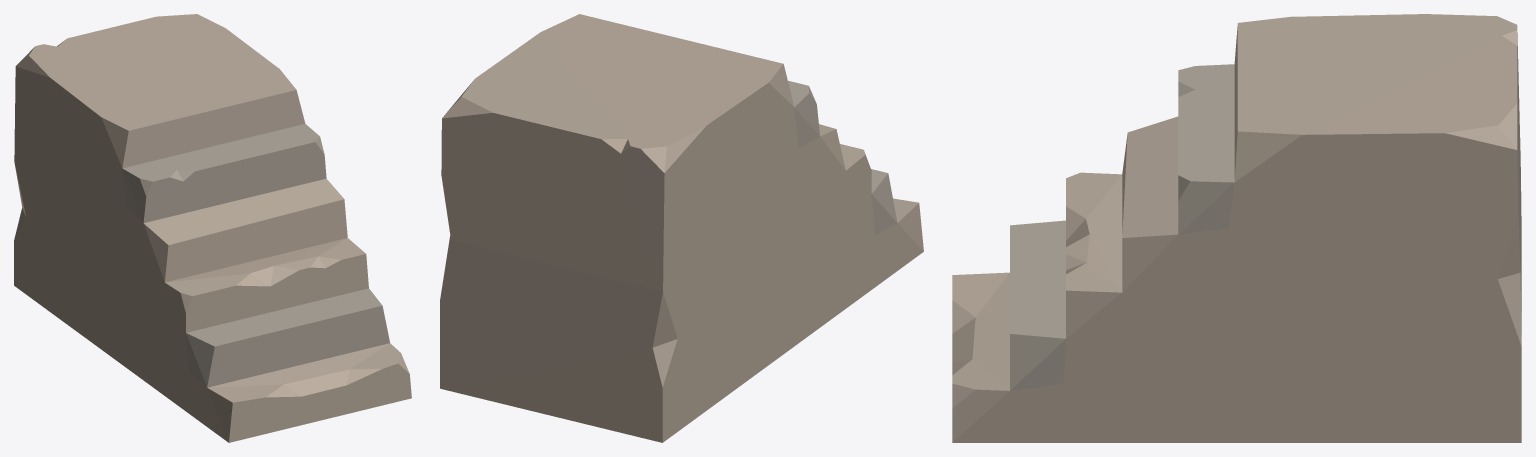
The model's file is SM_Bld_Village_Stairs_02.glb.
The picture shows the model from 3 angles, left to right: view 1: azimuth 30°, elevation 25°; view 2: azimuth 150°, elevation 25°; view 3: azimuth 270°, elevation 25°; orthographic projection. The views are drawn at different scales.
Parts seen in each view (by area): view 1: SM_Bld_Village_Stairs_02; view 2: SM_Bld_Village_Stairs_02; view 3: SM_Bld_Village_Stairs_02.
Boxes of the visible parts, <box> form: SM_Bld_Village_Stairs_02: <box>14,14,411,442</box>; SM_Bld_Village_Stairs_02: <box>440,14,923,442</box>; SM_Bld_Village_Stairs_02: <box>952,14,1521,442</box>.
Bounding box in the file's own units: 1.32 × 1.63 × 2.69.
1 material, 1 textured.
